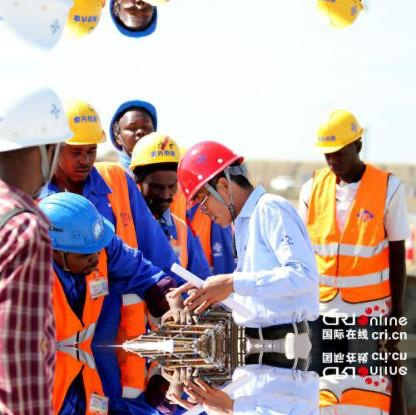Safety Helmet: (31, 188, 112, 290), (1, 80, 73, 192), (176, 135, 257, 231), (51, 93, 109, 188), (127, 130, 189, 216), (311, 103, 370, 184), (110, 96, 161, 154), (105, 1, 162, 40)
